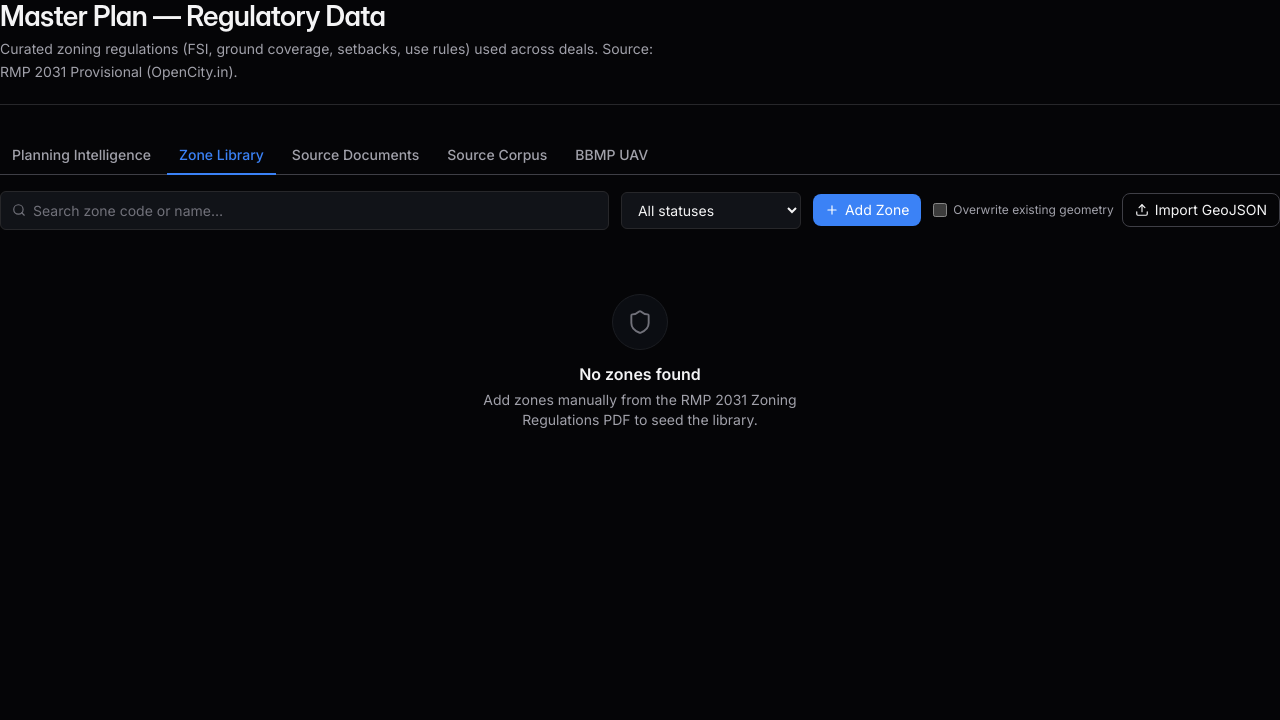
Scenario: MasterPlanAdminPage source documents › shows page ledger rows for a source document
Click the button "Source Documents" at (356, 156), box [280,137,431,175]
(page scrolled)
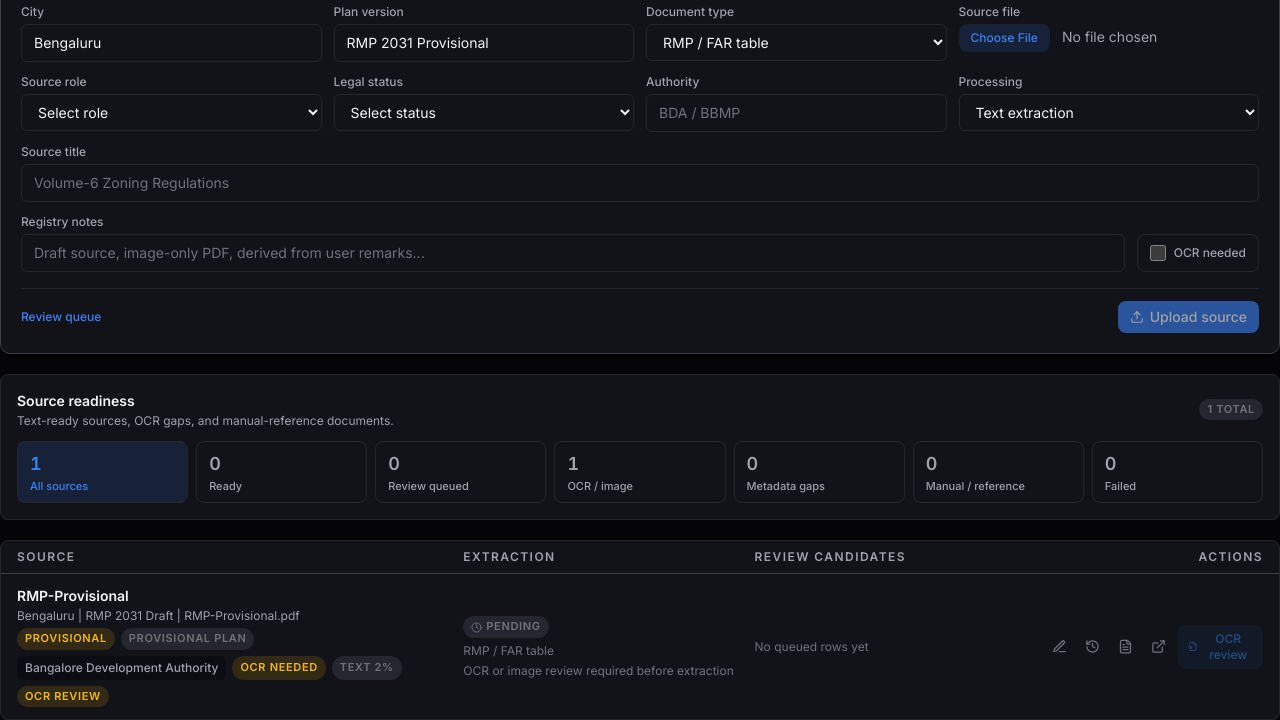
Click the button named "page ledger rmp-provisional" at (1125, 647), box [1112,633,1139,660]
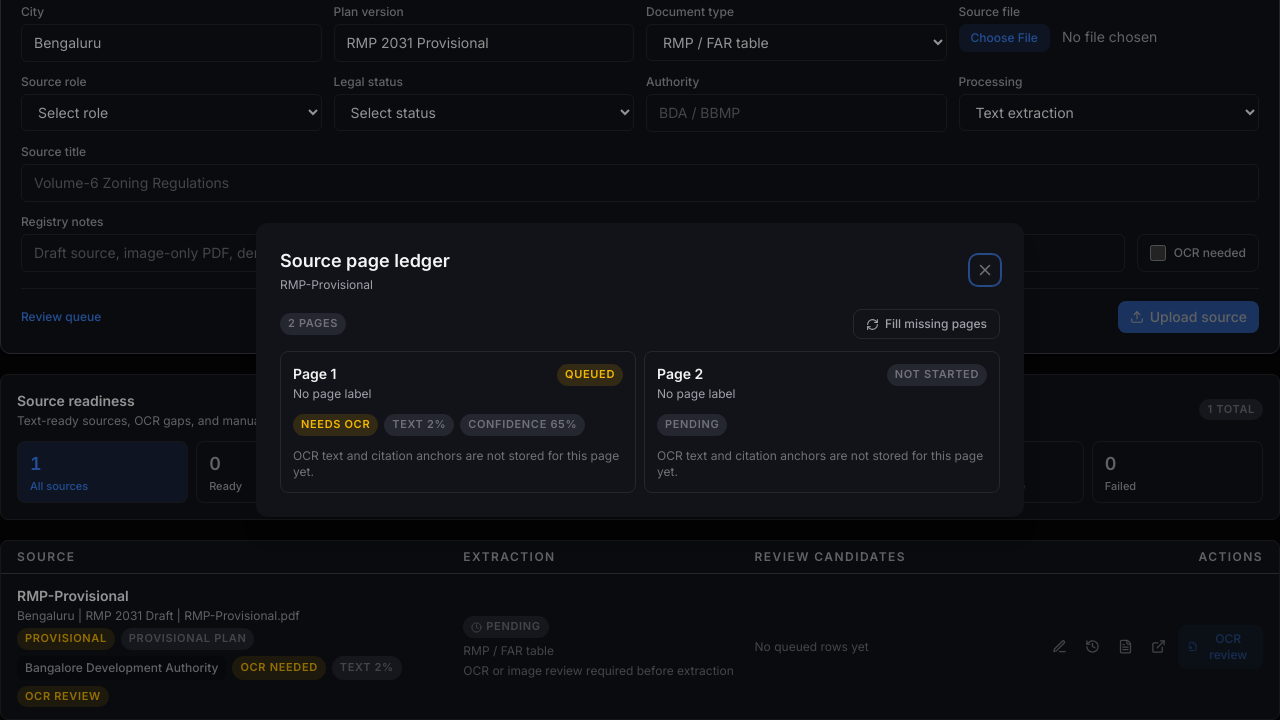
Expected: the text "Page 1" is shown, [293,365,336,382]
Expected: the text "Page 2" is shown, [657,365,703,382]
Expected: the text "needs ocr" is shown, [293,414,378,436]
